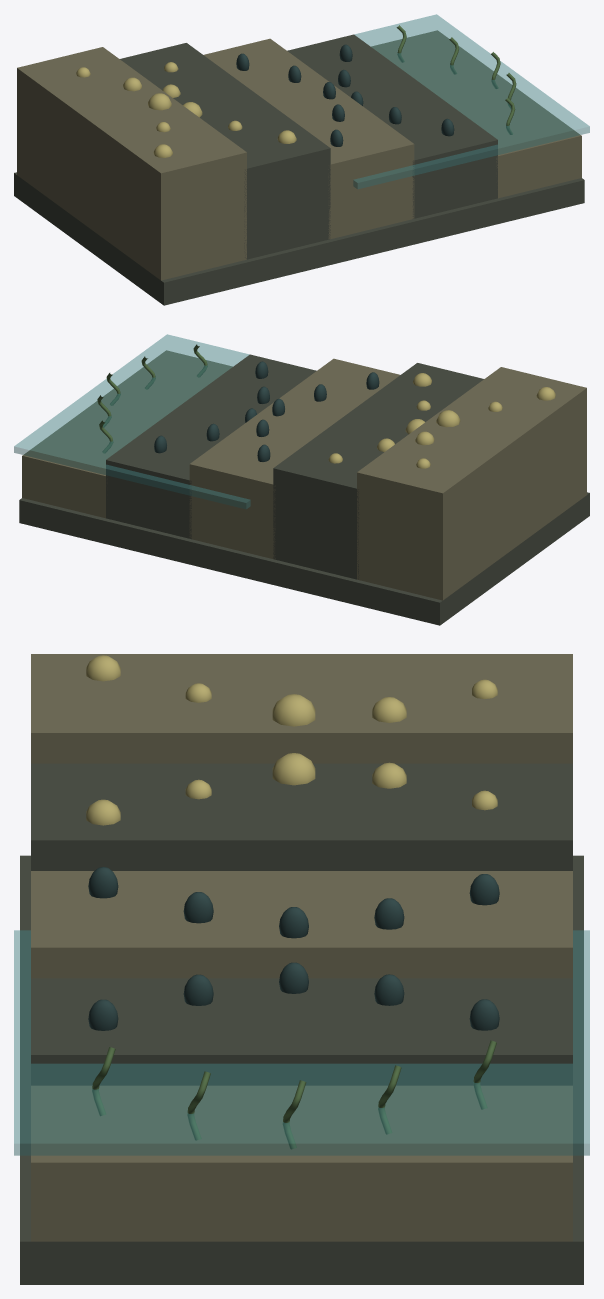
The model's file is intertidal.glb.
3 renders of one model, top to bottom at view 1: azimuth 30°, elevation 25°; view 2: azimuth 150°, elevation 25°; view 3: azimuth 270°, elevation 25°, orthographic. The views are drawn at different scales.
Parts seen in each view (by area): view 1: intertidal; view 2: intertidal; view 3: intertidal.
Part boxes in pixels (left/top/right/bottom): intertidal: left=14, top=14, right=589, bottom=305; intertidal: left=14, top=334, right=589, bottom=625; intertidal: left=14, top=654, right=589, bottom=1284.
Bounding box in the file's own units: 4.64 × 1.48 × 2.9.
